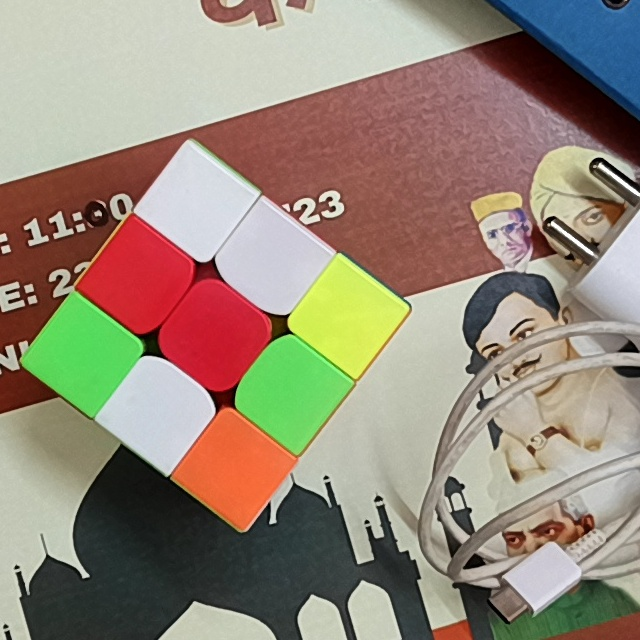tile: (238, 230, 305, 293), (260, 357, 325, 421), (127, 378, 191, 441), (51, 322, 113, 386), (204, 436, 265, 500), (318, 284, 379, 346), (164, 173, 225, 235), (181, 303, 246, 361), (110, 244, 171, 305)
